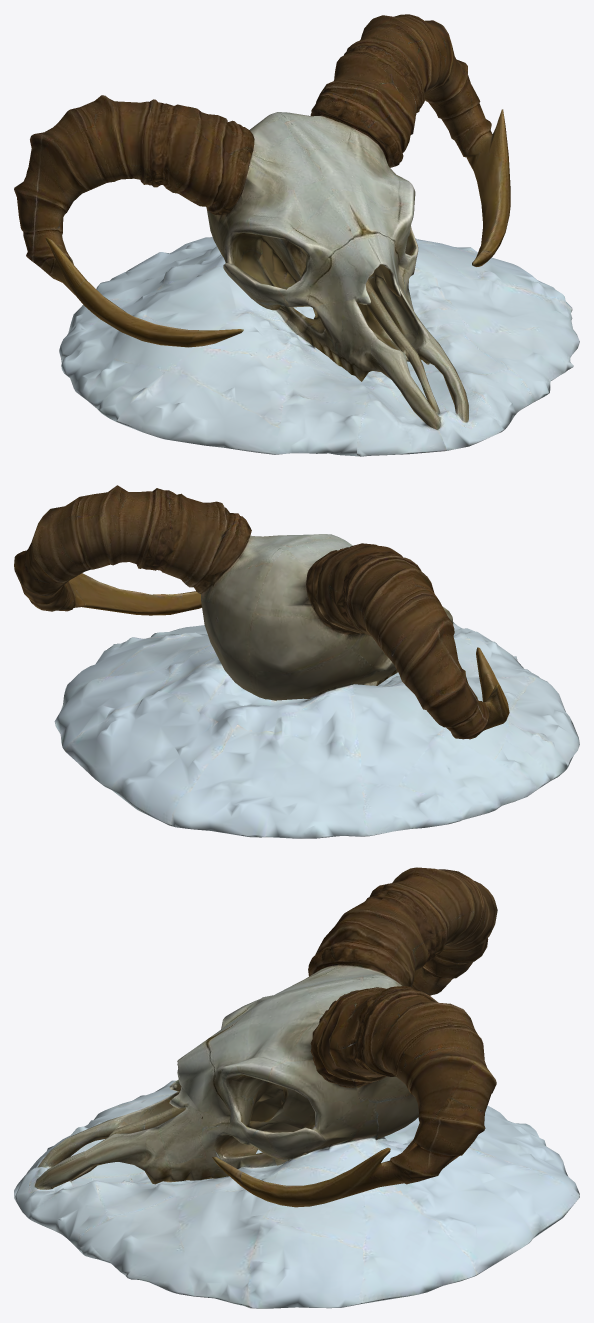
The model's file is skull_horned.glb.
The picture shows the model from 3 angles, top to bottom: view 1: azimuth 30°, elevation 25°; view 2: azimuth 150°, elevation 25°; view 3: azimuth 270°, elevation 25°; orthographic projection. The views are drawn at different scales.
Size of the model in its own units: 1.85 by 0.9657 by 1.9.
1 material, 1 textured.
